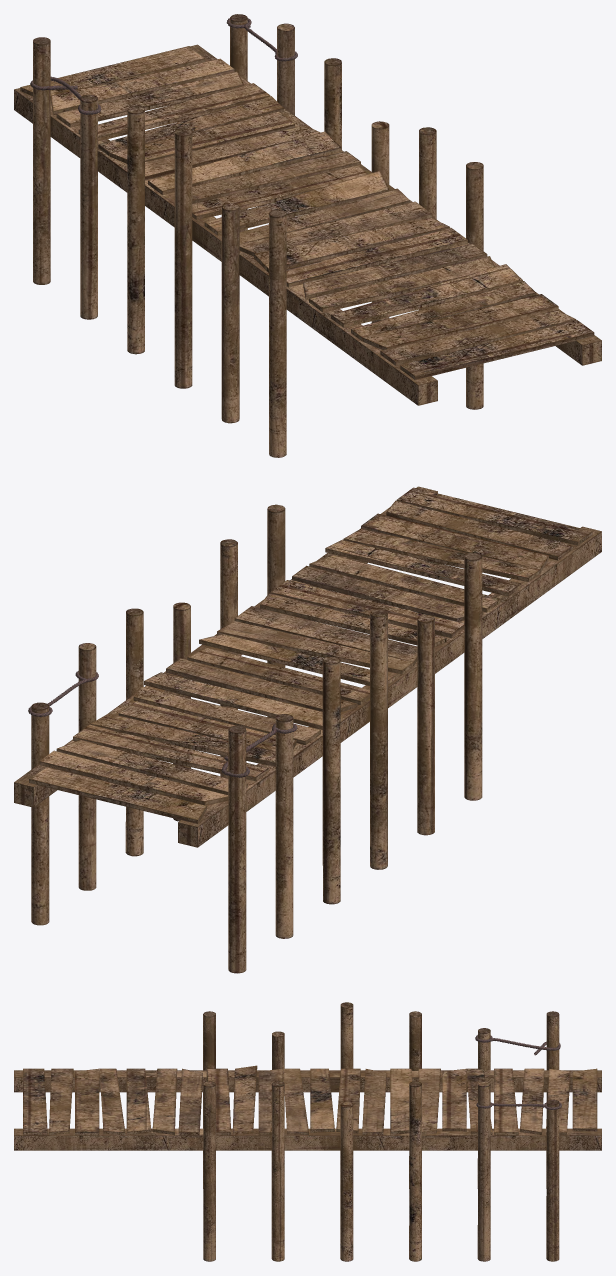
File: dock.glb
The picture shows the model from 3 angles, top to bottom: view 1: azimuth 30°, elevation 25°; view 2: azimuth 150°, elevation 25°; view 3: azimuth 270°, elevation 25°; orthographic projection. The views are drawn at different scales.
Parts seen in each view (by area): view 1: defaultMaterial; view 2: defaultMaterial; view 3: defaultMaterial.
Boxes of the visible parts, box(x1,y1,x2,y2) form: defaultMaterial: box(14, 14, 601, 457); defaultMaterial: box(14, 486, 601, 973); defaultMaterial: box(14, 1002, 601, 1261).
Size of the model in its own units: 8.04 by 8.9 by 25.78.
Materials: 1 (1 with a texture image).
